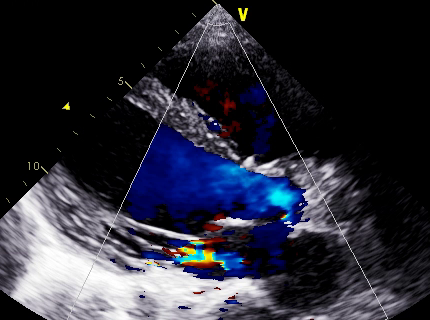MR: (160, 220, 227, 281)
